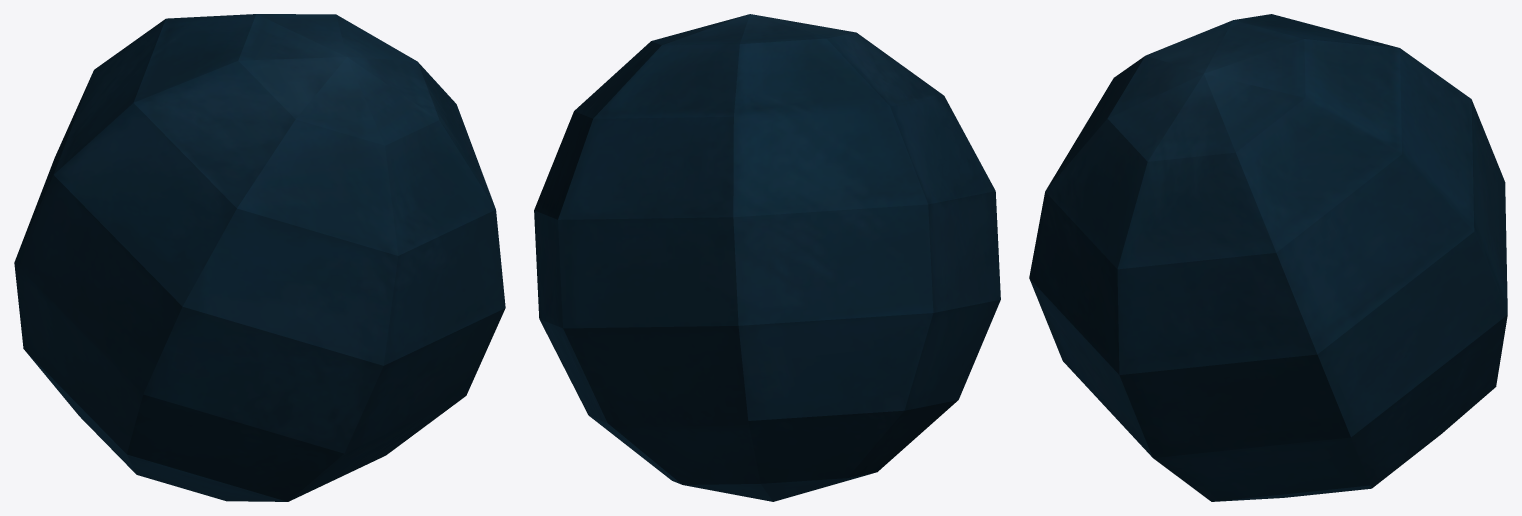
File: Monolith2.fbx
The picture shows the model from 3 angles, left to right: view 1: azimuth 30°, elevation 25°; view 2: azimuth 150°, elevation 25°; view 3: azimuth 270°, elevation 25°; orthographic projection. The views are drawn at different scales.
Parts seen in each view (by area): view 1: polySurface4; view 2: polySurface4; view 3: polySurface4.
Boxes of the visible parts, <box> form: polySurface4: <box>14,14,505,501</box>; polySurface4: <box>534,14,1000,501</box>; polySurface4: <box>1029,14,1507,501</box>.
Bounding box in the file's own units: 2.68 × 2.73 × 2.62.
